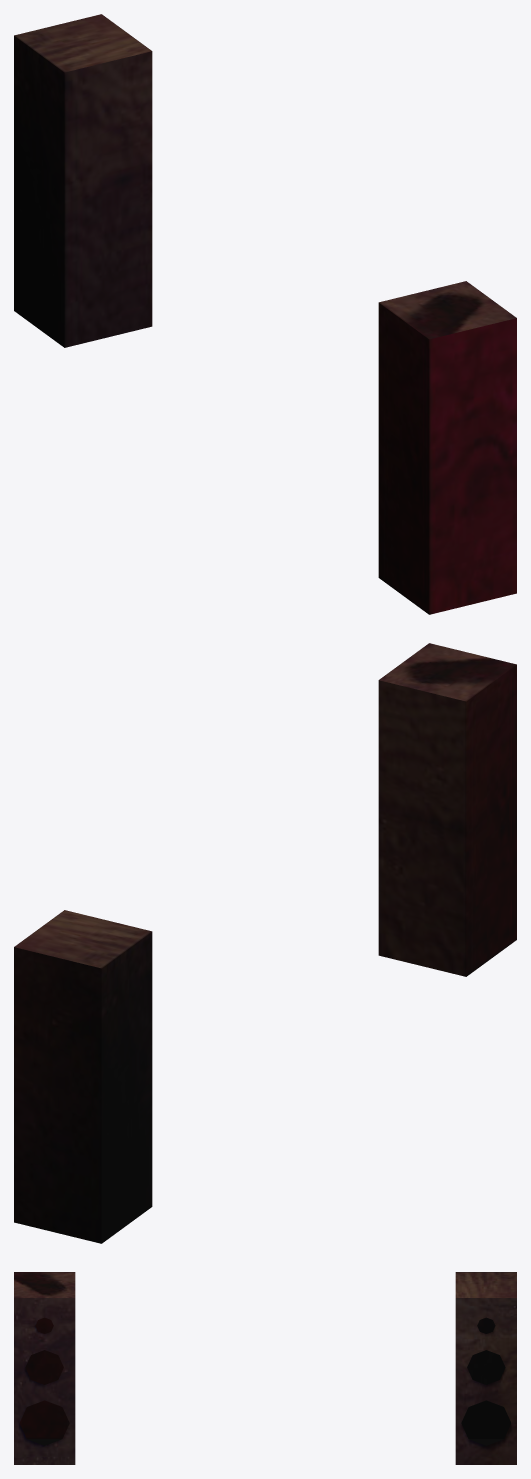
Rendered from speakers.glb.
3 renders of one model, top to bottom at view 1: azimuth 30°, elevation 25°; view 2: azimuth 150°, elevation 25°; view 3: azimuth 270°, elevation 25°, orthographic. The views are drawn at different scales.
Parts seen in each view (by area): view 1: speakers; view 2: speakers; view 3: speakers.
Part boxes in pixels (bbox=[...]): speakers: bbox=[14, 14, 516, 614]; speakers: bbox=[14, 643, 516, 1243]; speakers: bbox=[14, 1272, 516, 1464].
Size of the model in its own units: 2 by 6 by 16.4.
1 material, 1 textured.
